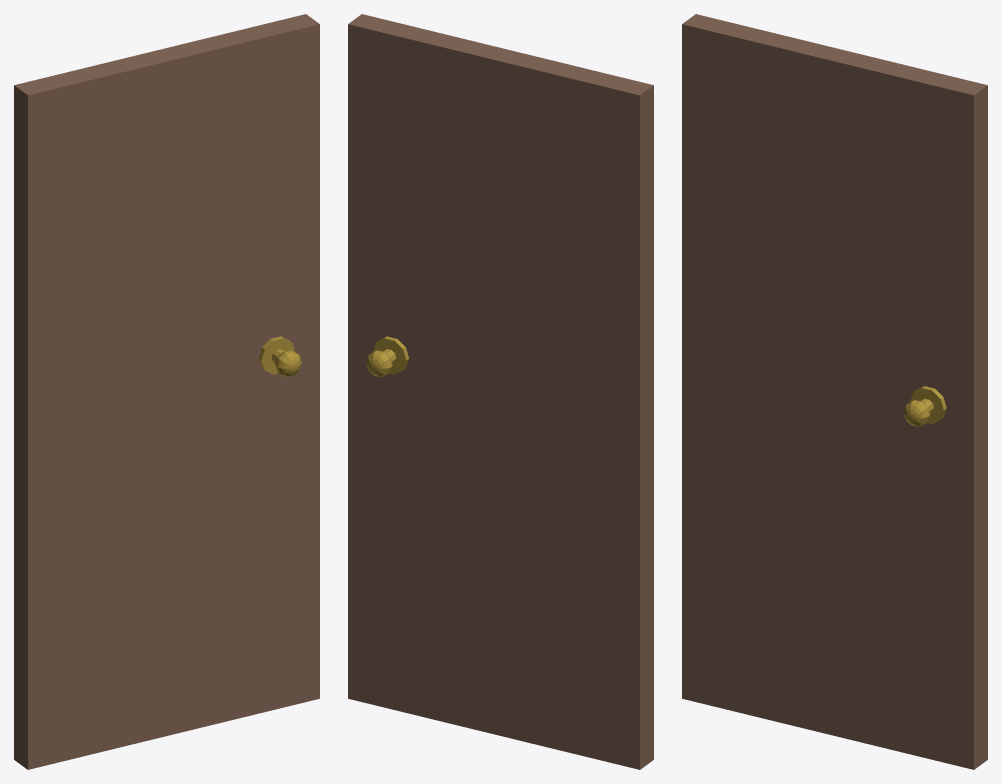
Rendered from Door.fbx.
3 renders of one model, left to right at view 1: azimuth 30°, elevation 25°; view 2: azimuth 150°, elevation 25°; view 3: azimuth 330°, elevation 25°, orthographic.
Parts seen in each view (by area): view 1: door2; view 2: door2; view 3: door2.
Part boxes in pixels (x1,y1,x2,y2): door2: (14, 14, 319, 769); door2: (348, 14, 653, 769); door2: (682, 14, 987, 769).
Bounding box in the file's own units: 17.22 × 38 × 5.14.
